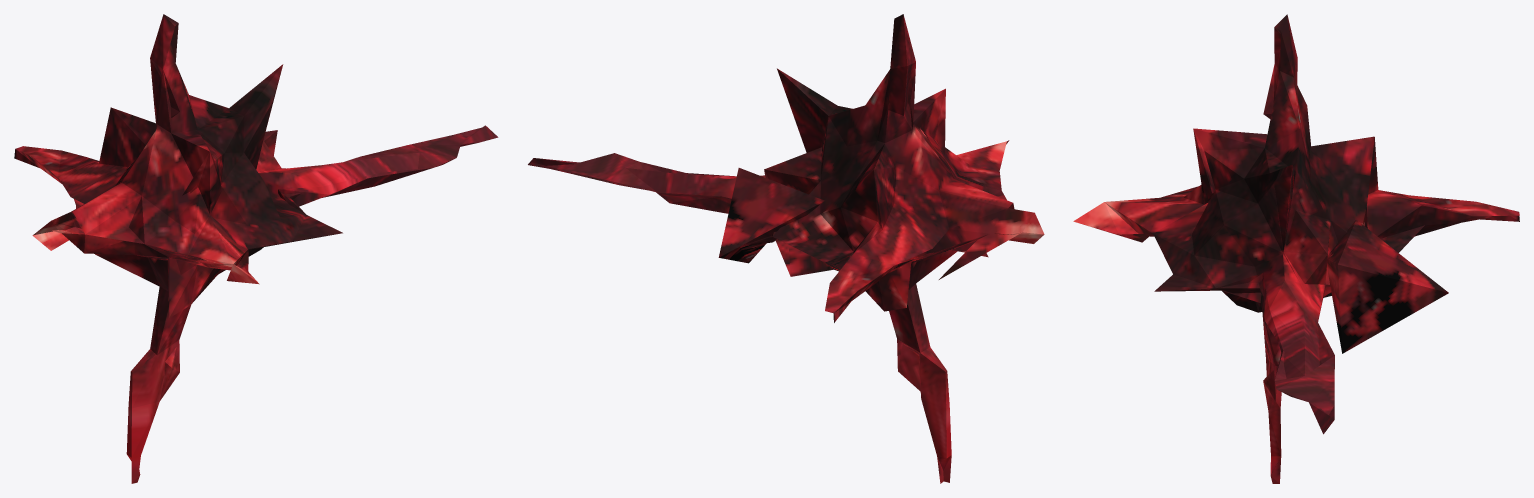
Rendered from asset.glb.
3 renders of one model, left to right at view 1: azimuth 30°, elevation 25°; view 2: azimuth 150°, elevation 25°; view 3: azimuth 270°, elevation 25°, orthographic. The views are drawn at different scales.
Visible parts, largest first — view 1: world; view 2: world; view 3: world.
Part boxes in pixels (bbox=[...]): world: bbox=[14, 14, 498, 483]; world: bbox=[528, 14, 1044, 483]; world: bbox=[1073, 14, 1519, 483].
Bounding box in the file's own units: 0.6306 × 0.5639 × 0.4688.
1 material, 1 textured.
